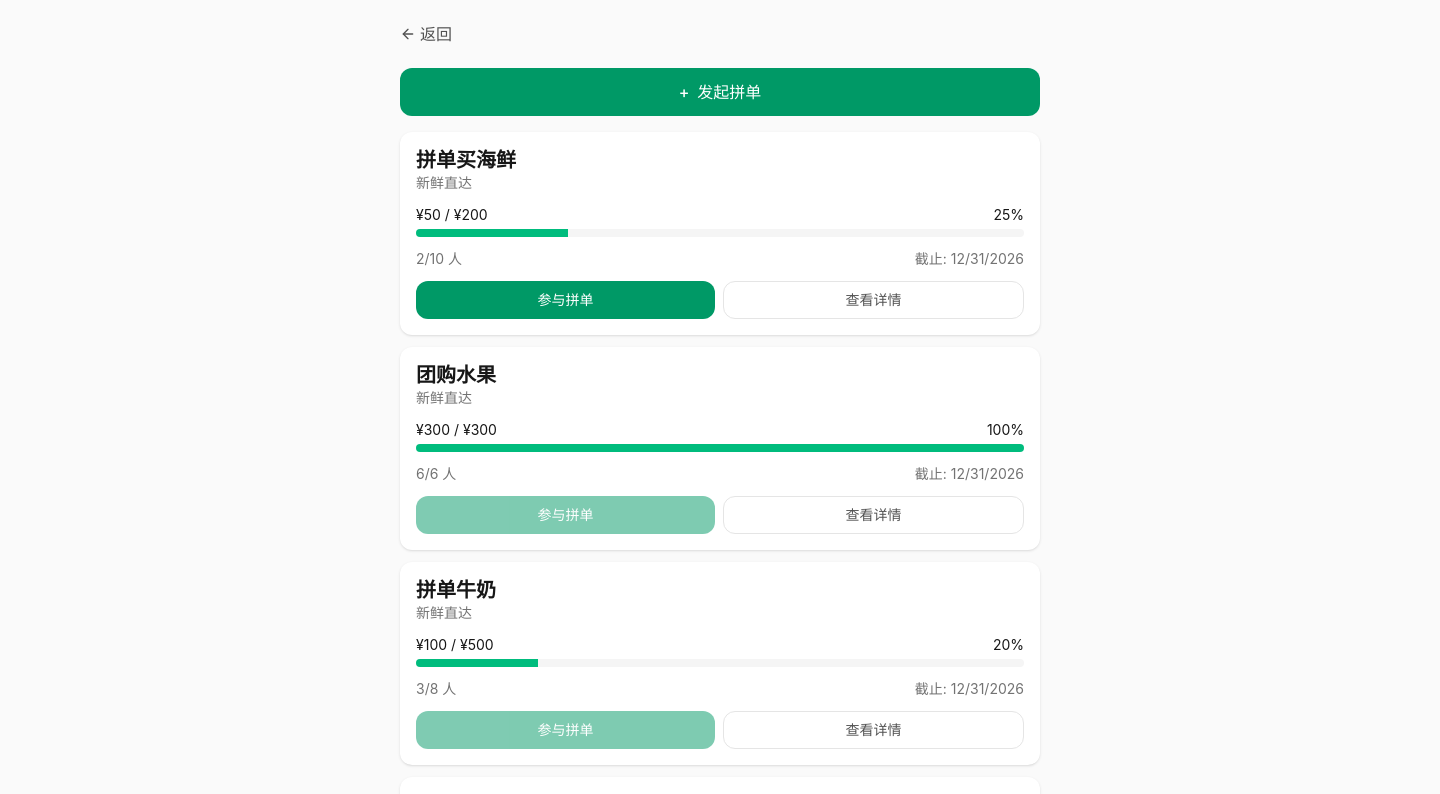
Test: SharedKitchen/GroupOrders 拼单列表 › 点击'参与拼单'打开参与弹窗显示拼单标题与建议金额
Expected: the heading "拼单买海鲜" is shown, [416,148,516,172]
Click the button "参与拼单" below "拼单买海鲜" at (566, 300), box [416,281,715,319]
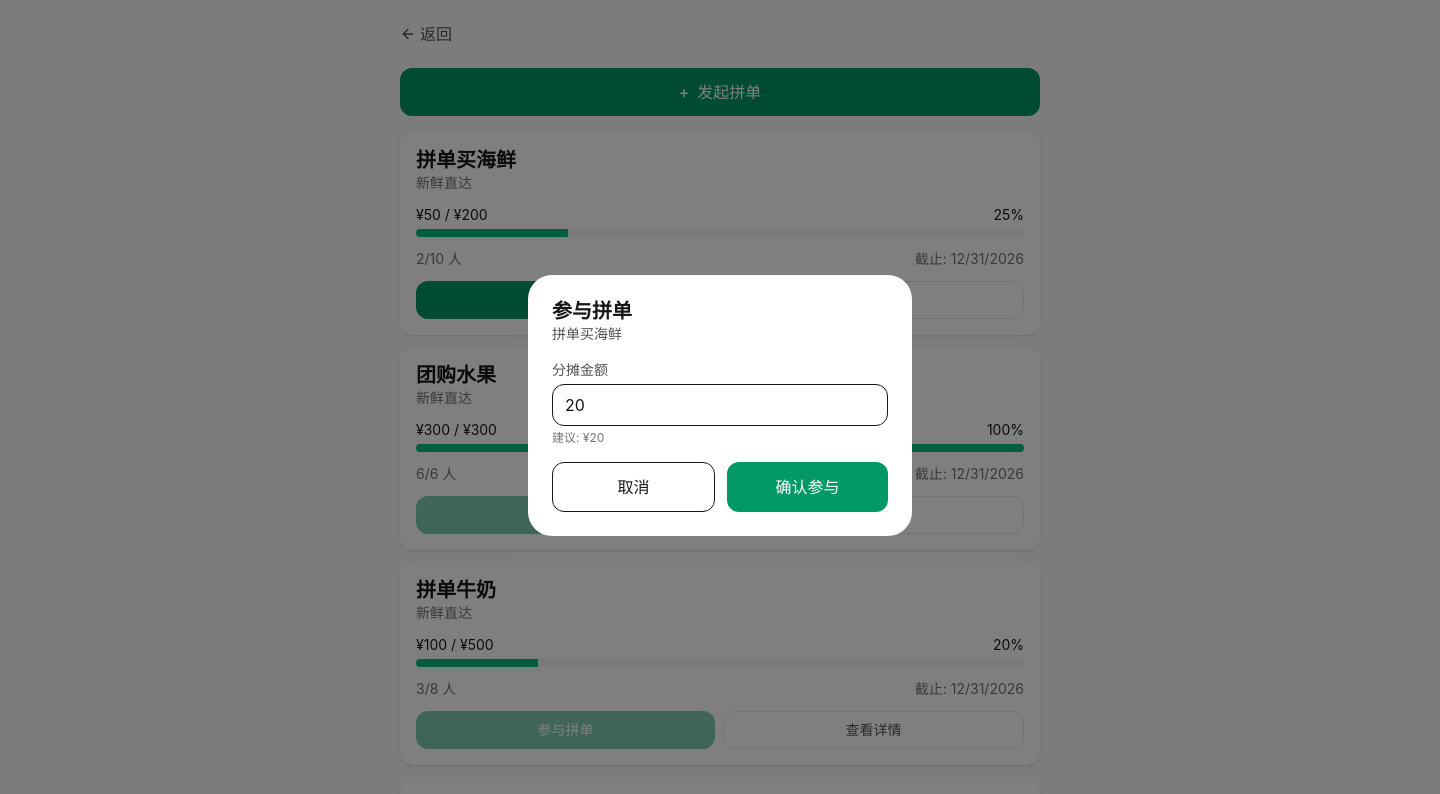
Expected: the heading "参与拼单" is shown, [552,298,632,322]
Expected: the text "建议: ¥20" is shown, [552,430,604,444]
